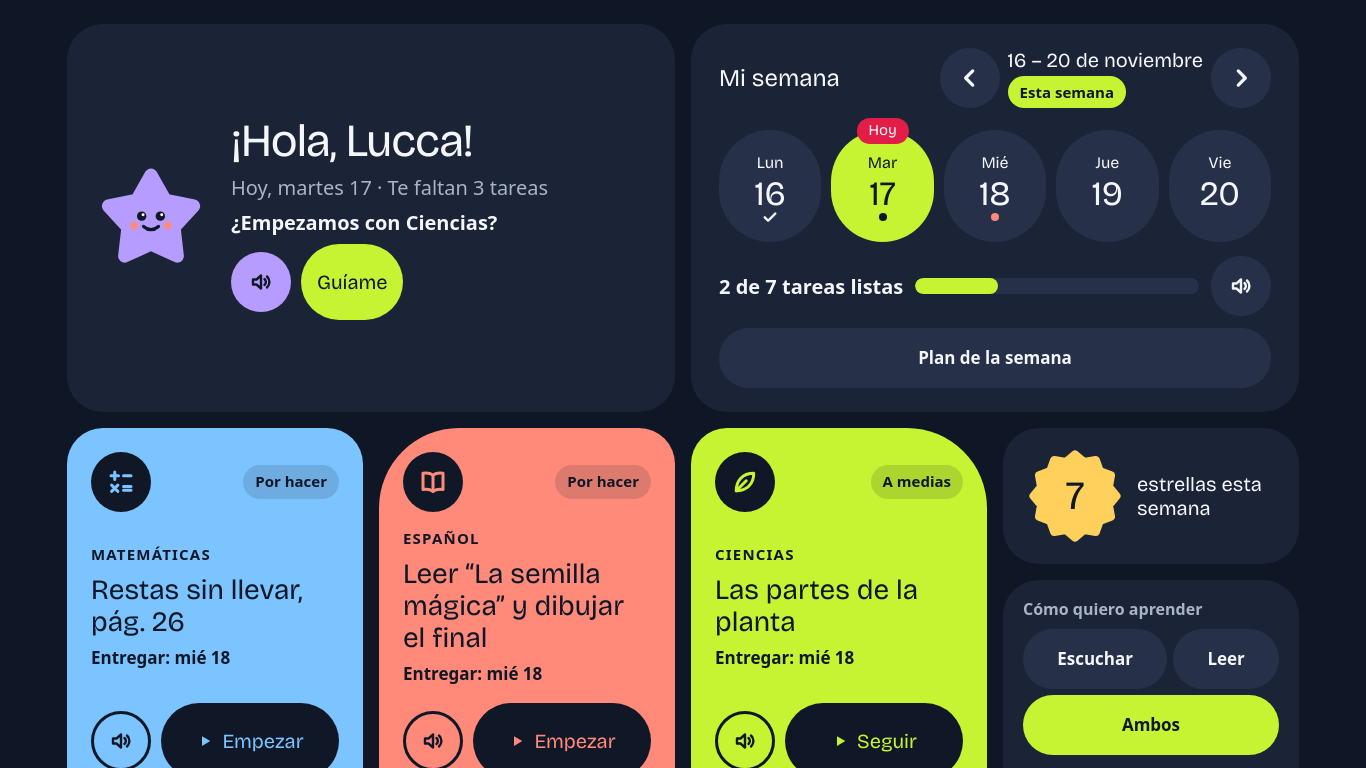
WeekScreen › uses "Repasar" for finished tasks
Click the button with aria-label "Lunes 16": (770, 186) [719,130,821,242]
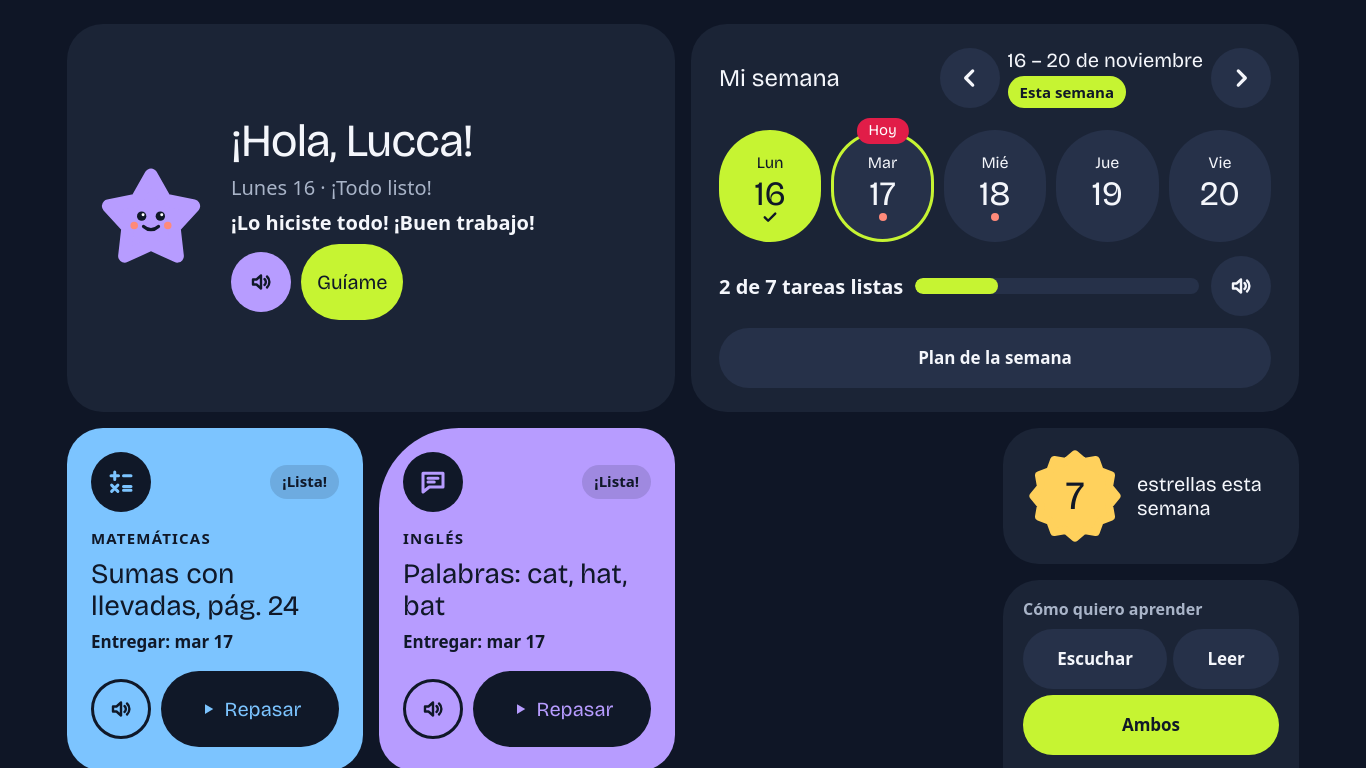
expect the number of buttons named "Repasar: " is 2: met, box [161,671,339,747]; [473,671,651,747]
